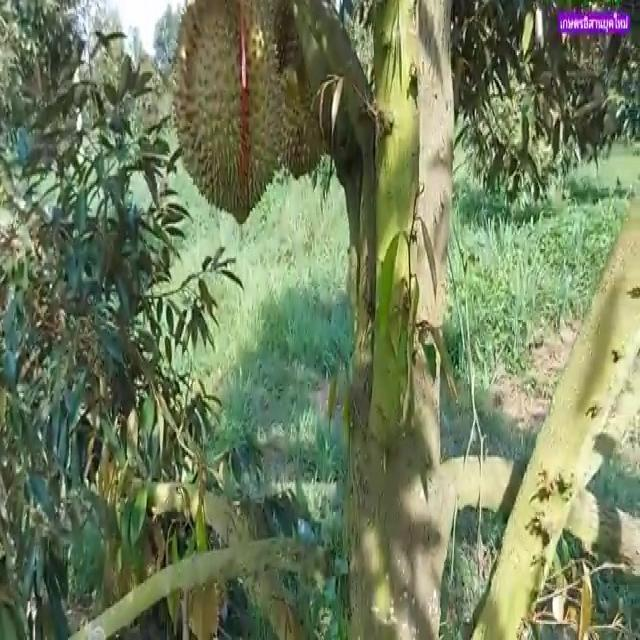durian: (169, 0, 287, 231), (262, 0, 342, 185)
